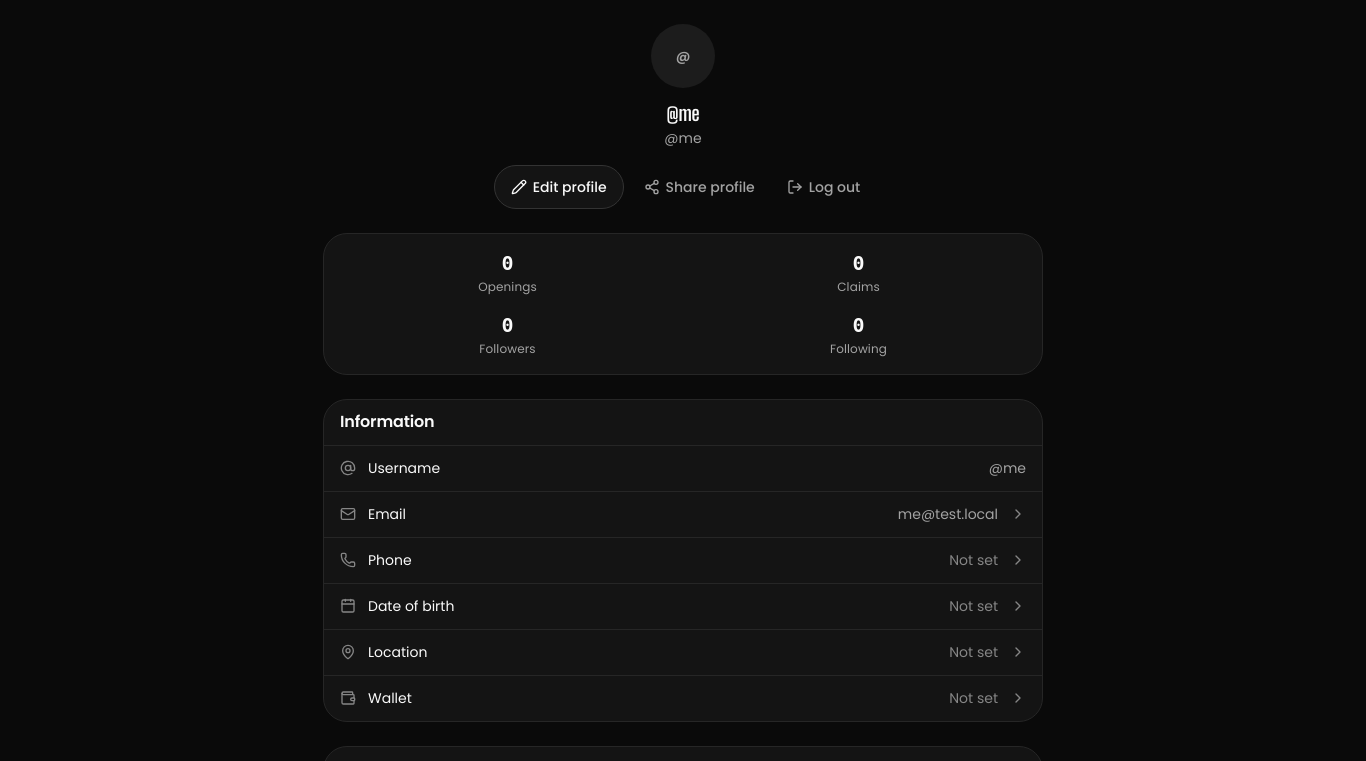
Scenario: Profile — field-specific edit (Phase 5n-B) › explains EMAIL_TAKEN in consumer language and keeps the dialog open
Click the button "Email me@test.local": coordinates (387, 514) left=324, top=491, right=1042, bottom=537
(page scrolled)
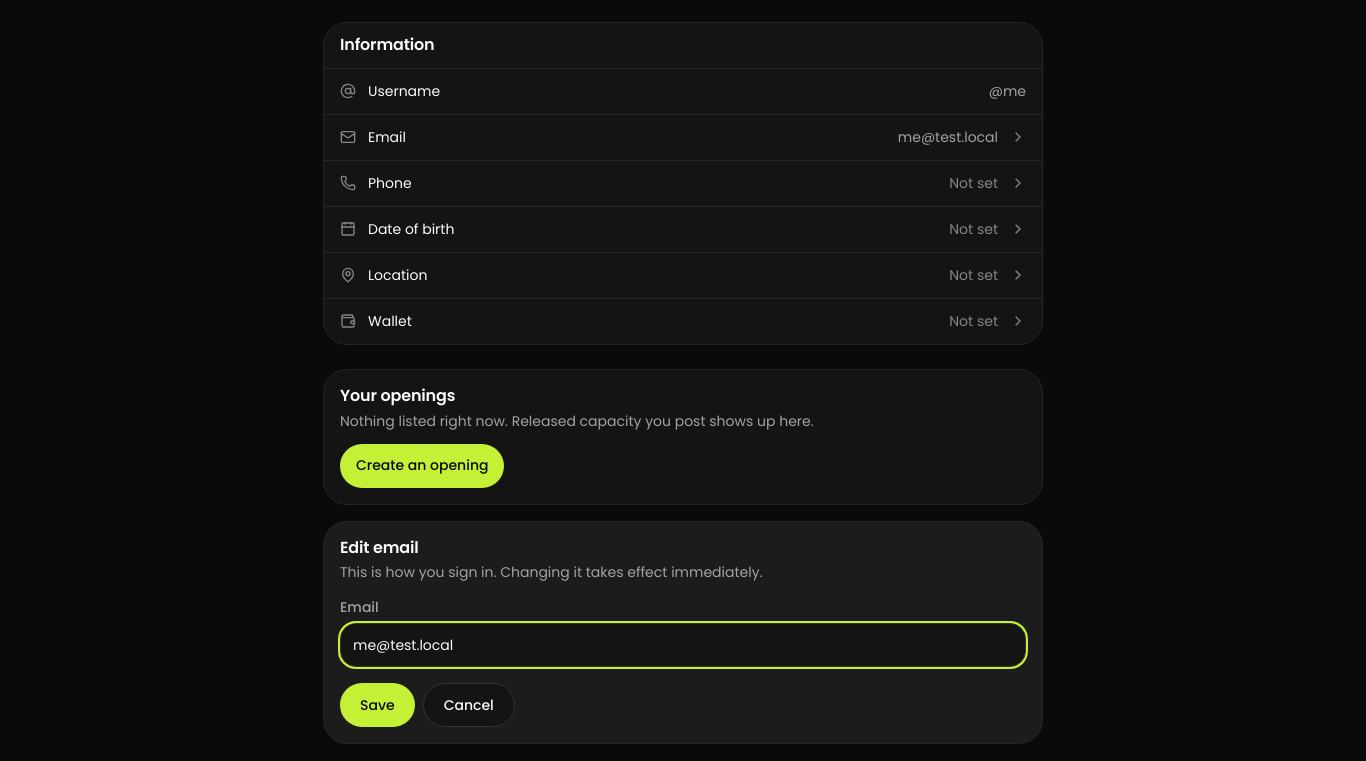
Replace the text in the field labelled "Email" with "taken@test.local": coordinates (683, 645) left=340, top=623, right=1026, bottom=667
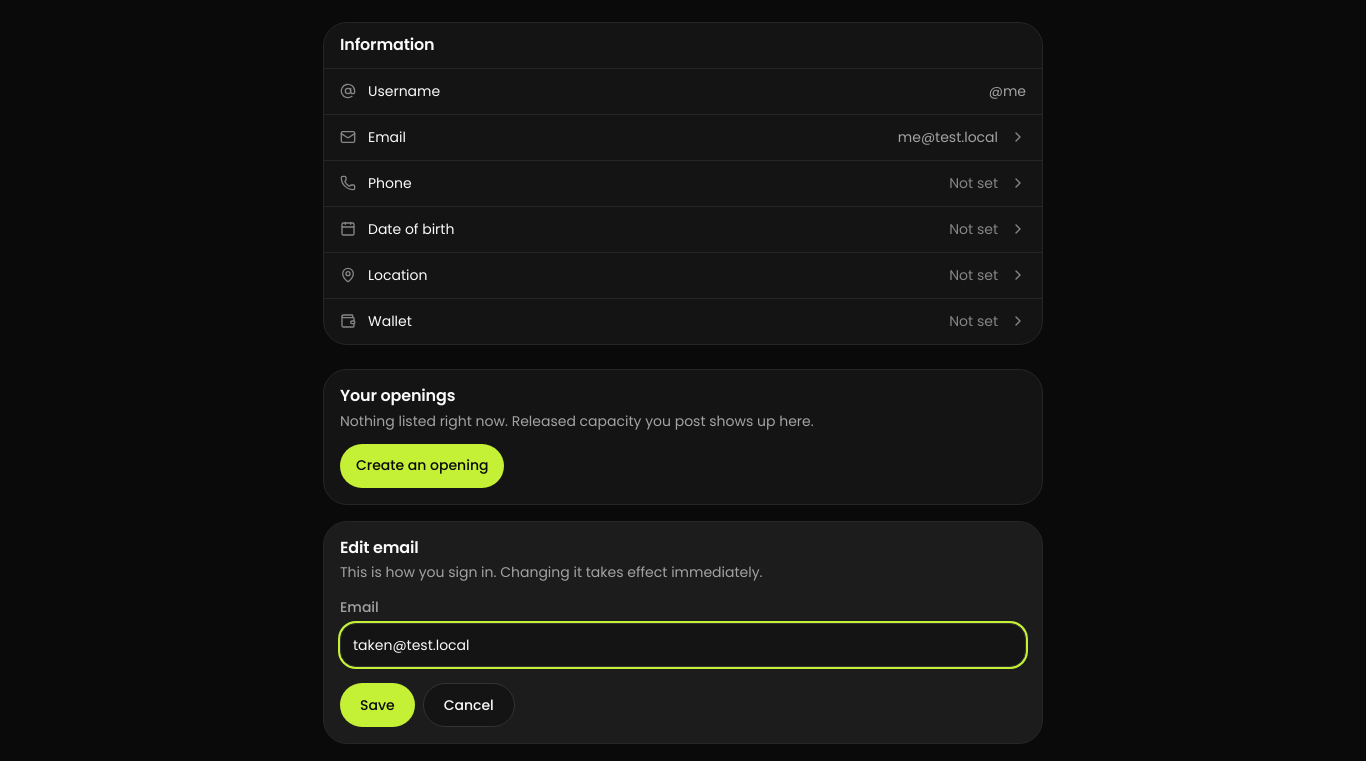
Click the button "Save": coordinates (377, 705) left=340, top=683, right=415, bottom=727
(page scrolled)
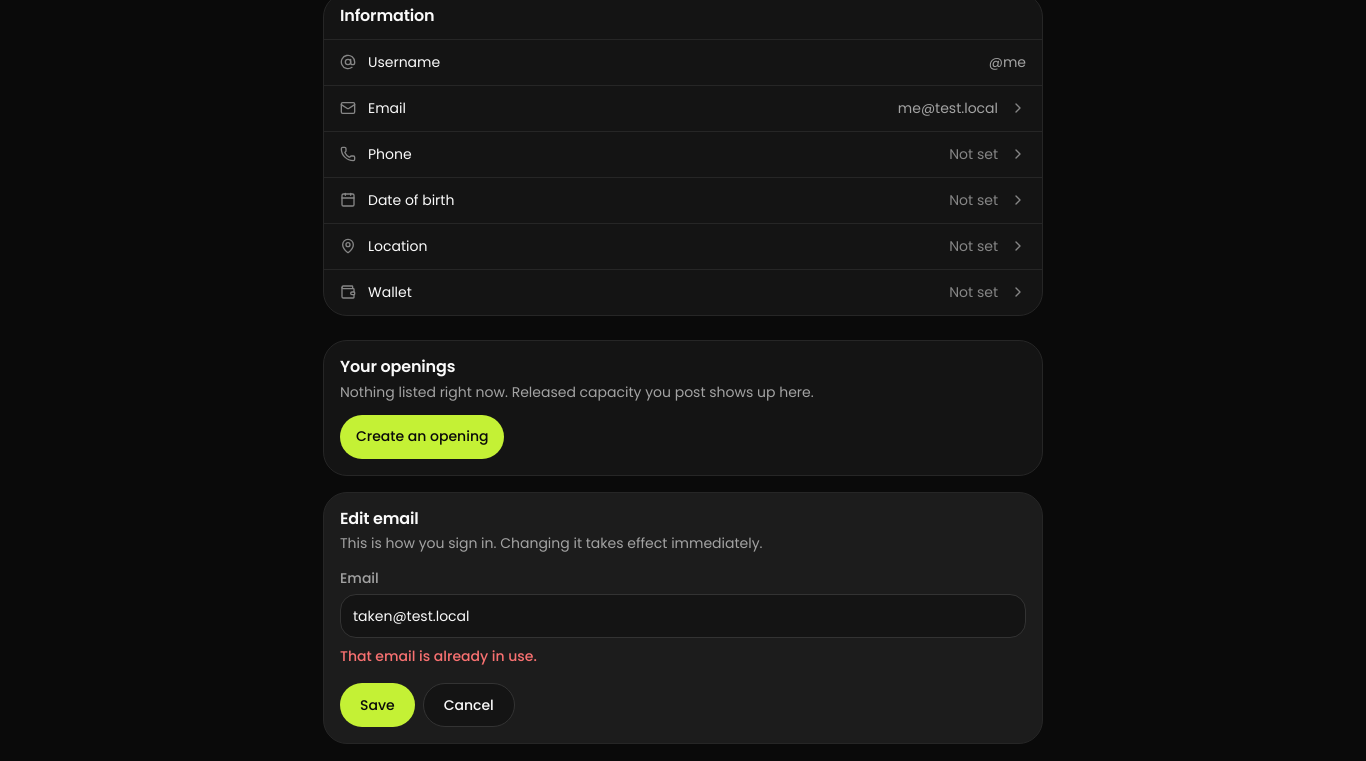
Expected: the dialog is shown, left=323, top=492, right=1043, bottom=744
Expected: the text "That email is already in use." is shown, left=340, top=646, right=537, bottom=666
